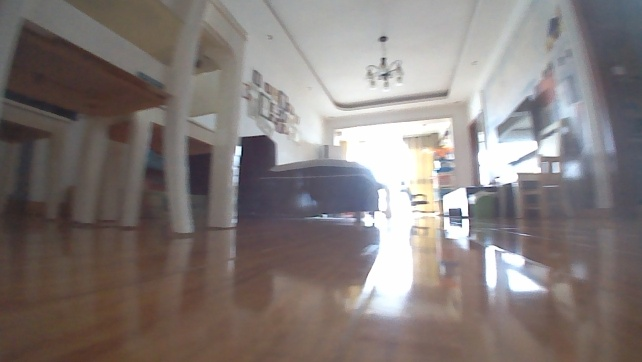dining_table: (0, 0, 253, 240)
sofa1: (235, 132, 381, 218)
